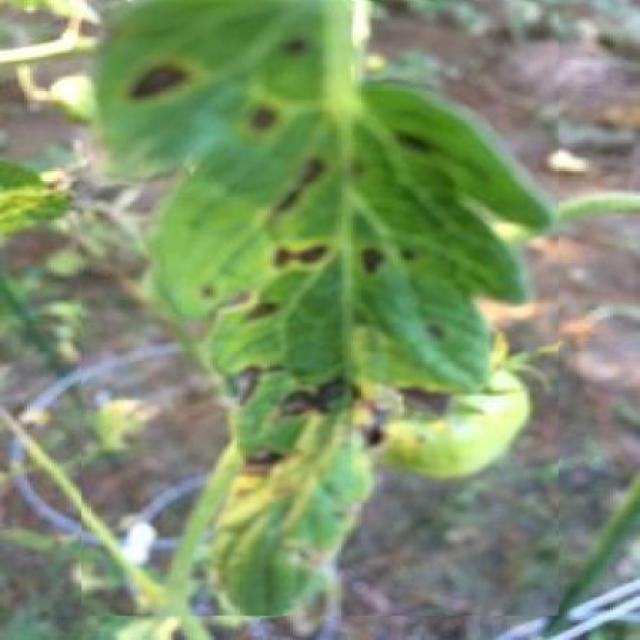Septoria: (81, 1, 558, 616)
